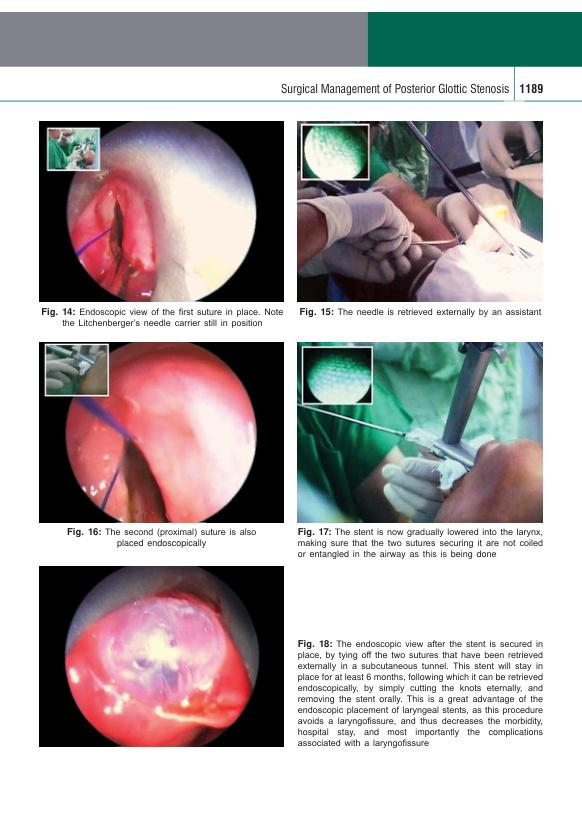caption: (297, 638, 545, 749), (297, 525, 545, 561), (40, 306, 284, 329), (65, 525, 257, 549), (299, 306, 542, 319)
header: (280, 82, 511, 97)
image: (297, 120, 543, 303), (297, 341, 543, 523), (39, 342, 284, 524), (39, 121, 284, 302), (39, 566, 284, 747)
